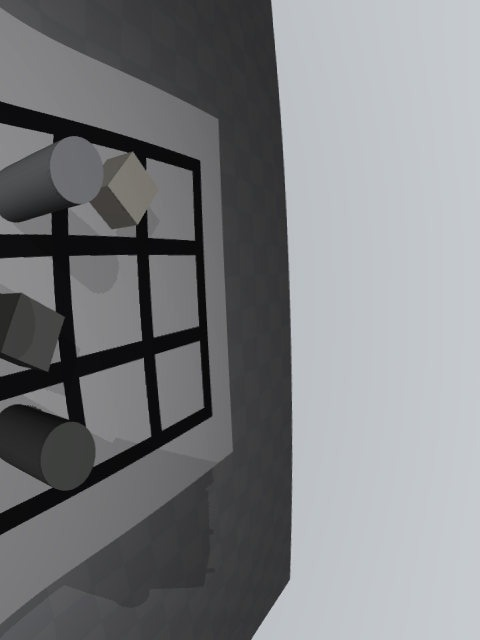can: (0, 136, 104, 223)
cube: (0, 293, 65, 372)
cylinder: (0, 404, 96, 491)
foam: (89, 152, 159, 229)
